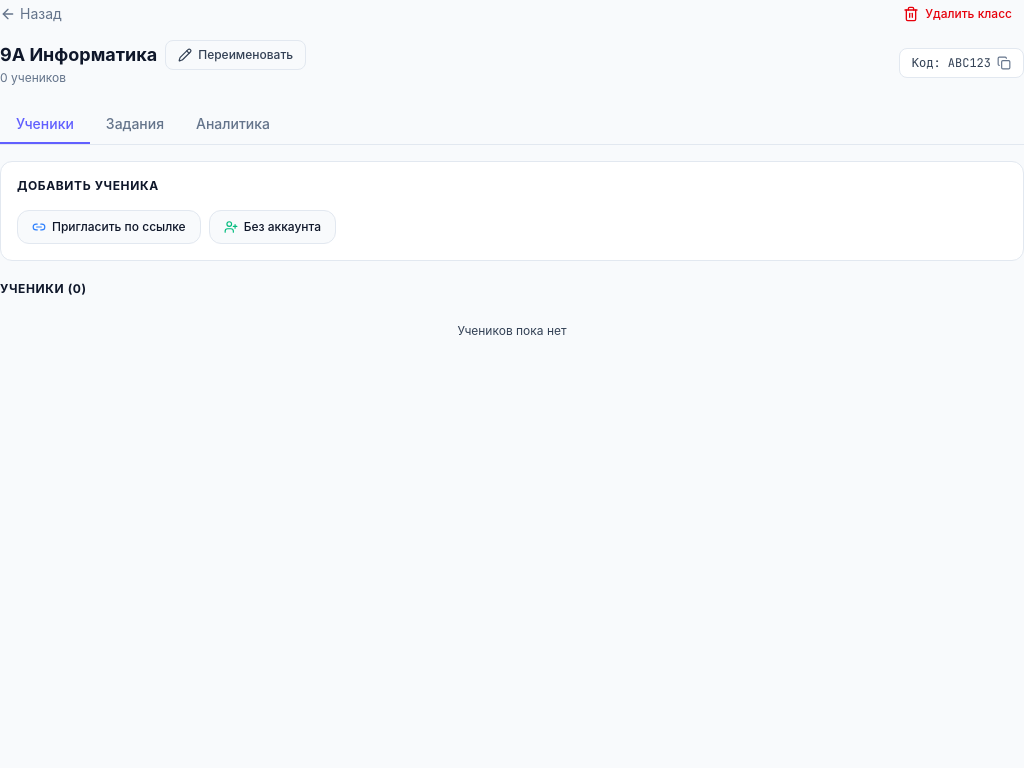
Test: ClassDetailPage — кнопка «Переименовать» и обновление названия › кнопка «Переименовать» открывает окно, а после сохранения название класса сразу обновляется без перезагрузки
expect the heading "9А Информатика" is shown: met, box [0, 41, 157, 69]
Click the button "Переименовать" at (236, 55), box [165, 40, 306, 70]
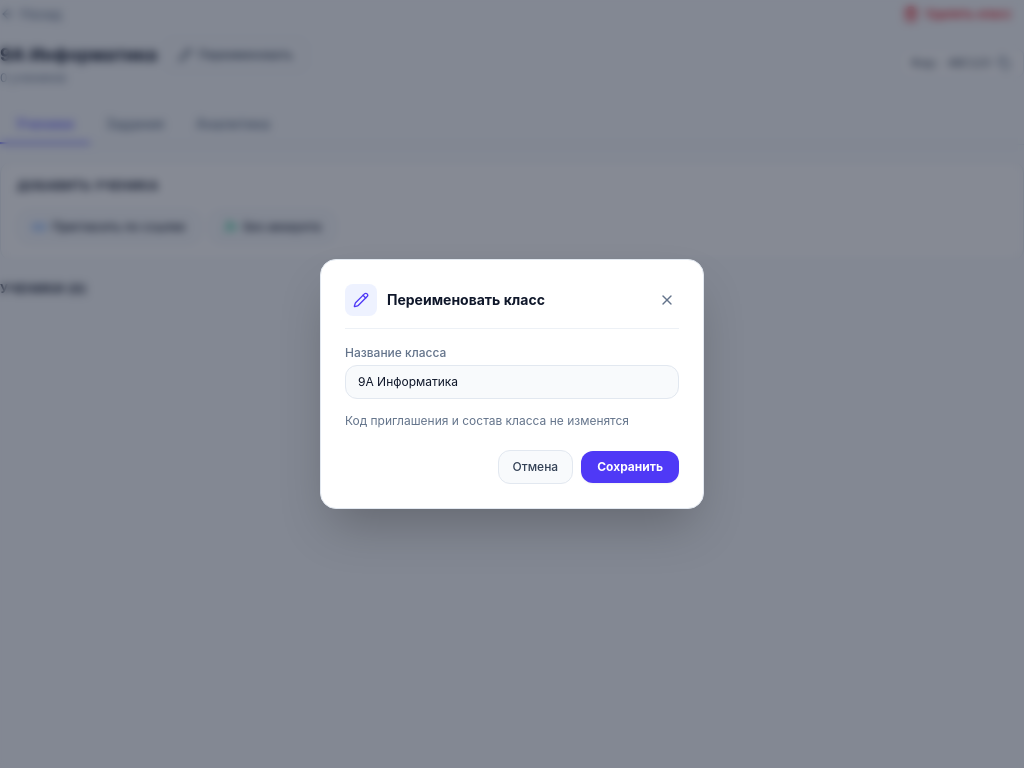
expect the dialog is shown: met, box [320, 259, 704, 509]
expect the heading "Переименовать класс" is shown: met, box [387, 290, 545, 310]
expect the text "Код приглашения и состав класса не изменятся" is shown: met, box [345, 411, 679, 430]
Replace the text in the field labelled "Название класса" with "10Б Профиль" at (512, 382), box [345, 365, 679, 399]
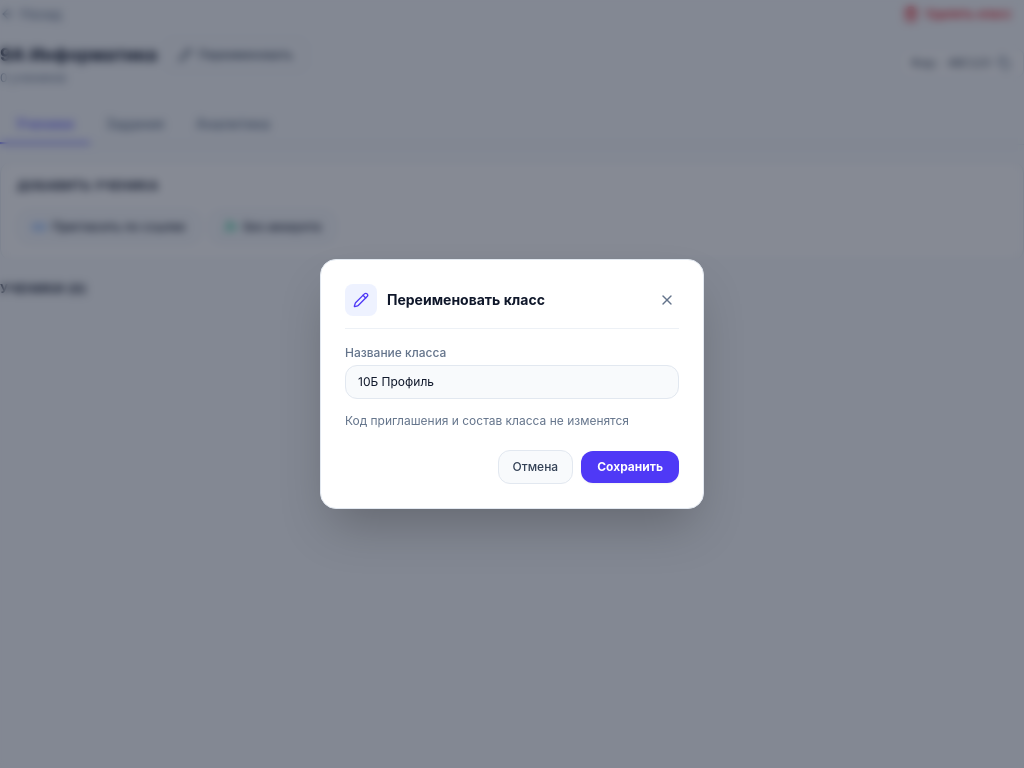
Click the button "Сохранить" at (630, 467), box [581, 451, 679, 483]
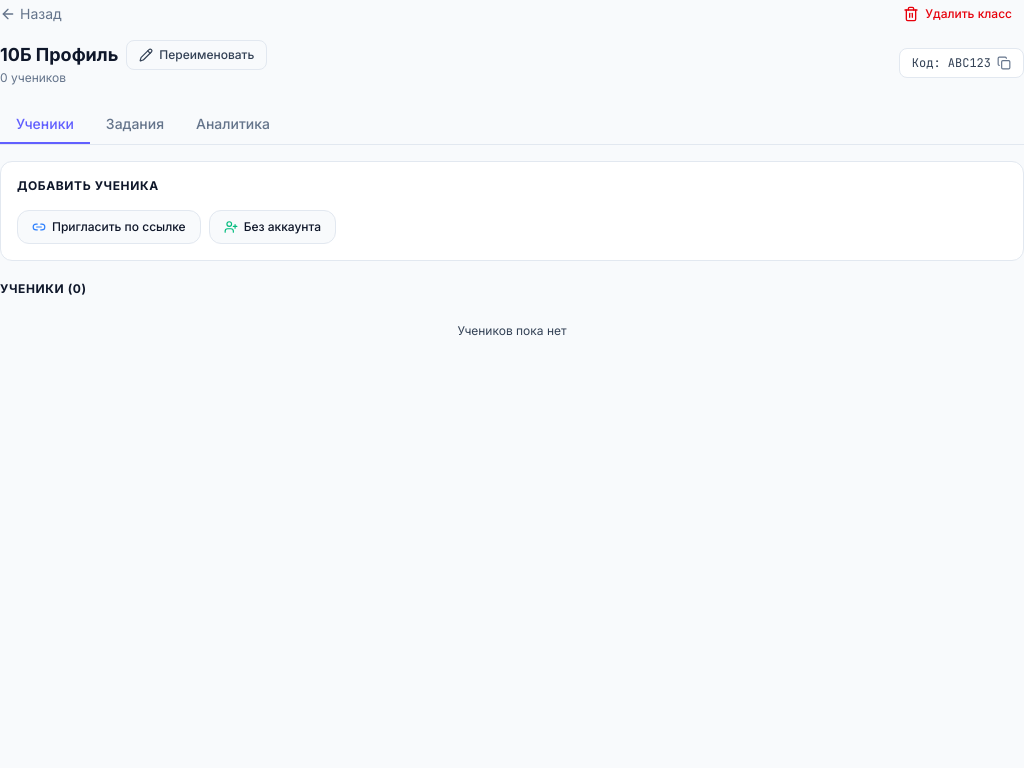
expect the dialog is gone: met
expect the heading "10Б Профиль" is shown: met, box [0, 41, 118, 69]
expect the heading "9А Информатика" is gone: met
